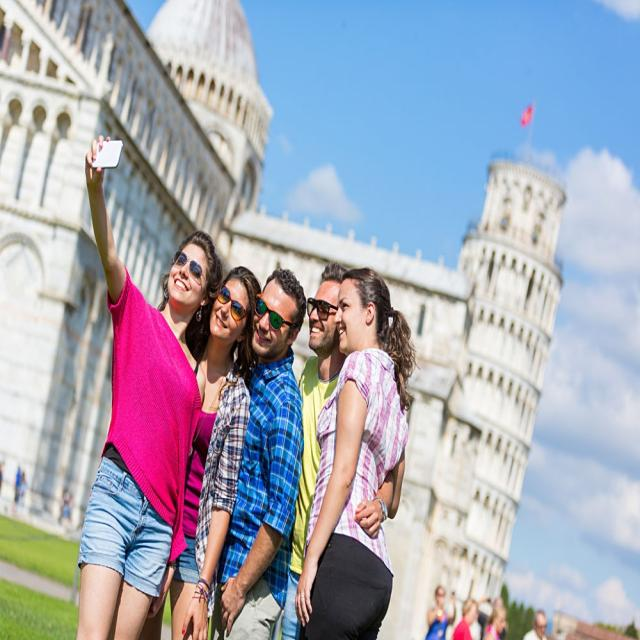body: (76, 134, 222, 640), (137, 263, 261, 640), (280, 261, 396, 640), (293, 266, 409, 640), (208, 265, 308, 640), (0, 454, 91, 530), (454, 593, 551, 639), (421, 582, 456, 639)
